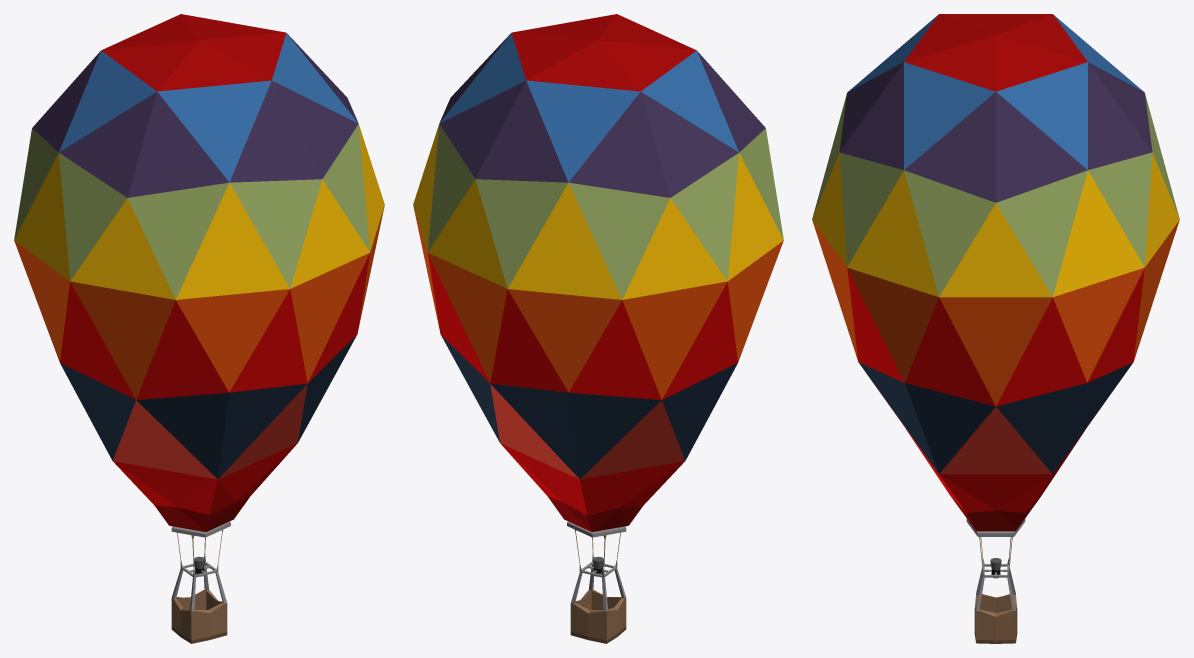
Rendered from Object_AirBalloon.fbx.
The picture shows the model from 3 angles, left to right: view 1: azimuth 30°, elevation 25°; view 2: azimuth 150°, elevation 25°; view 3: azimuth 270°, elevation 25°; orthographic projection.
Parts seen in each view (by area): view 1: AirBalloon; view 2: AirBalloon; view 3: AirBalloon.
Boxes of the visible parts, bbox=[...] form: AirBalloon: bbox=[14, 14, 384, 643]; AirBalloon: bbox=[413, 14, 783, 643]; AirBalloon: bbox=[812, 14, 1179, 643].
Size of the model in its own units: 5 by 9 by 5.
